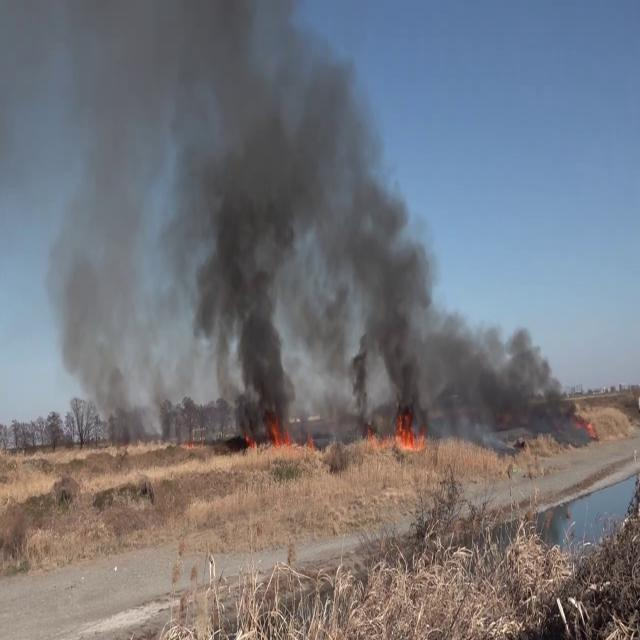Fire: (266, 413, 314, 458), (390, 406, 428, 454)
Smoke: (45, 1, 445, 427), (334, 216, 584, 436)
